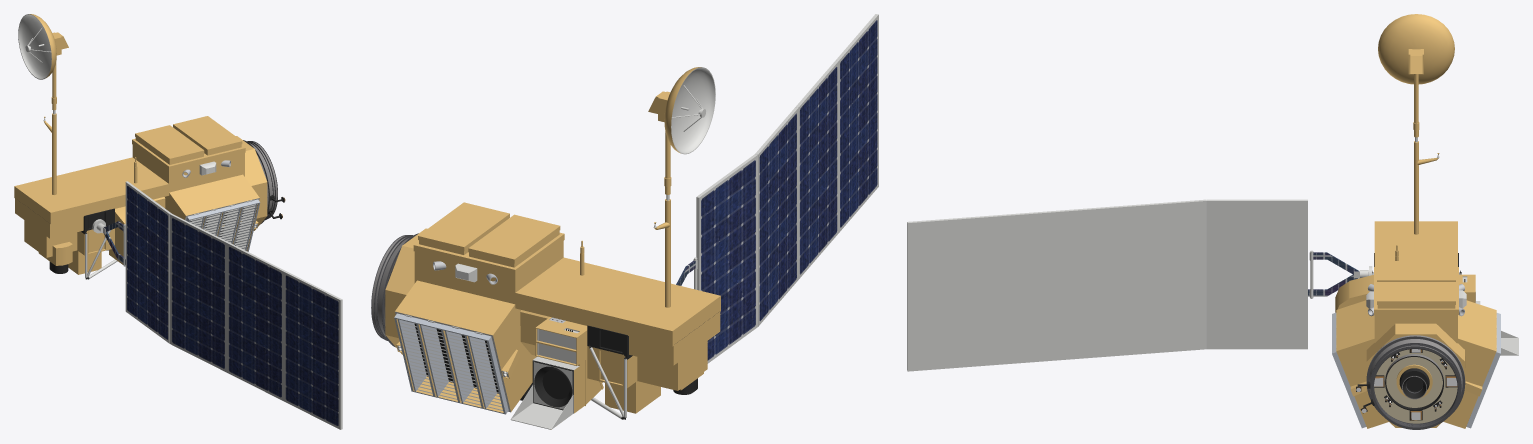
File: landsat-4.glb
3 renders of one model, left to right at view 1: azimuth 30°, elevation 25°; view 2: azimuth 150°, elevation 25°; view 3: azimuth 270°, elevation 25°, orthographic. The views are drawn at different scales.
Parts seen in each view (by area): view 1: Cube.017, Cube.013, Cube.015, Sphere.001, TM_Panels_1.004, Cube.014, LDCM-2014-composite.001; view 2: Cube.013, Cube.017, Cube.015, TM_Panels_1.004, Sphere.001, Cube.014, LDCM-2014-composite.001; view 3: Cube.015, Cube.013, LDCM-2014-composite.001, Sphere.001, Cube.014, TM_Panels_1.004, Solar Panel.002.
Boxes of the visible parts, box(x1,y1,x2,y2) form: Cube.017: box(127, 185, 338, 426); Cube.013: box(14, 116, 267, 274); Cube.015: box(85, 161, 342, 429); Sphere.001: box(18, 14, 68, 194); TM_Panels_1.004: box(186, 199, 260, 251); Cube.014: box(19, 195, 284, 279); LDCM-2014-composite.001: box(243, 140, 285, 224); Cube.013: box(385, 202, 720, 429); Cube.017: box(701, 19, 877, 360); Cube.015: box(395, 14, 878, 429); TM_Panels_1.004: box(394, 313, 508, 414); Sphere.001: box(648, 67, 715, 307); Cube.014: box(414, 312, 718, 419); LDCM-2014-composite.001: box(371, 233, 418, 347); Cube.015: box(907, 199, 1518, 371); Cube.013: box(1335, 221, 1496, 428); LDCM-2014-composite.001: box(1356, 335, 1465, 429); Sphere.001: box(1378, 14, 1454, 234); Cube.014: box(1356, 253, 1465, 420); TM_Panels_1.004: box(1332, 312, 1500, 428); Solar Panel.002: box(1308, 252, 1359, 296).
Size of the model in its own units: 2.15 by 2.43 by 4.3.
Materials: 13 (2 with a texture image).
